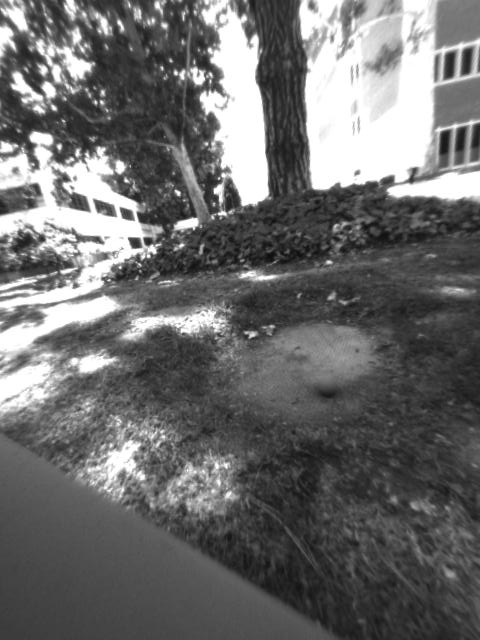dogtoy: (301, 361, 350, 403)
